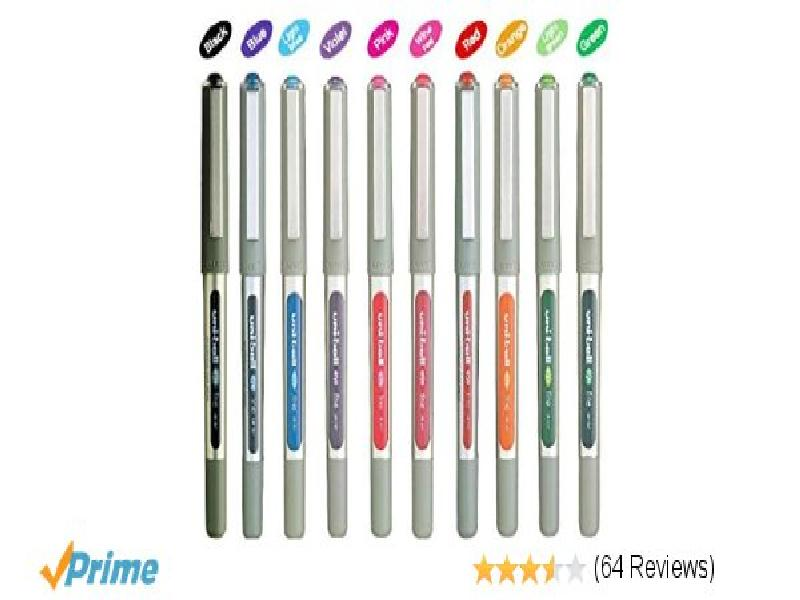pen: (266, 72, 319, 549), (234, 70, 279, 551), (406, 72, 451, 549), (361, 72, 406, 549), (531, 73, 576, 549), (319, 73, 363, 547), (491, 73, 534, 549), (194, 70, 235, 549), (452, 72, 491, 551), (576, 70, 613, 550)
